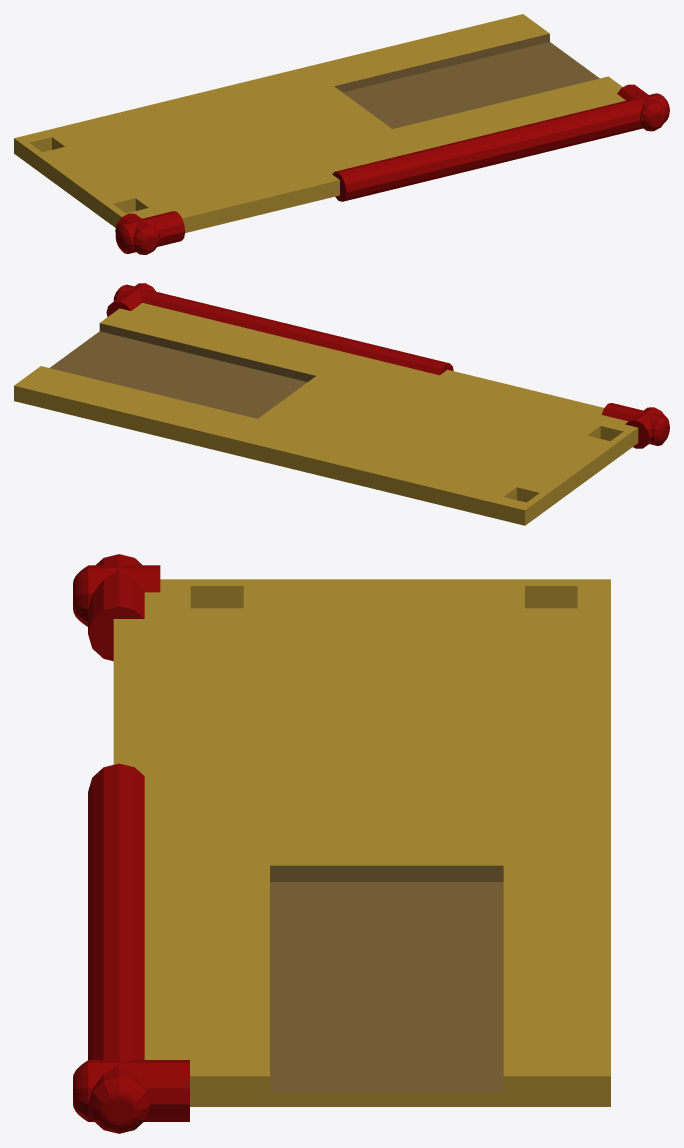
Rendered from side_platform_long.fbx.
The picture shows the model from 3 angles, top to bottom: view 1: azimuth 30°, elevation 25°; view 2: azimuth 150°, elevation 25°; view 3: azimuth 270°, elevation 25°; orthographic projection. The views are drawn at different scales.
Parts seen in each view (by area): view 1: Cube.007, Cylinder.016, Cylinder.015, Cylinder.014, Cylinder.017; view 2: Cube.007, Cylinder.016, Cylinder.015, Cylinder.017, Cylinder.014; view 3: Cube.007, Cylinder.016, Cylinder.014, Cylinder.015, Cylinder.017.
Boxes of the visible parts, left/top/right/bottom form: Cube.007: left=14, top=14, right=625, bottom=232; Cylinder.016: left=332, top=93, right=669, bottom=201; Cylinder.015: left=115, top=211, right=185, bottom=253; Cylinder.014: left=617, top=84, right=666, bottom=131; Cylinder.017: left=115, top=213, right=159, bottom=254; Cube.007: left=14, top=303, right=638, bottom=525; Cylinder.016: left=113, top=284, right=453, bottom=375; Cylinder.015: left=601, top=403, right=669, bottom=445; Cylinder.017: left=625, top=407, right=664, bottom=448; Cylinder.014: left=106, top=283, right=155, bottom=316; Cube.007: left=113, top=579, right=610, bottom=1106; Cylinder.016: left=88, top=763, right=150, bottom=1133; Cylinder.014: left=73, top=1060, right=189, bottom=1121; Cylinder.015: left=88, top=554, right=144, bottom=661; Cylinder.017: left=73, top=565, right=160, bottom=626.
Bounding box in the file's own units: 1359 × 67.58 × 579.
